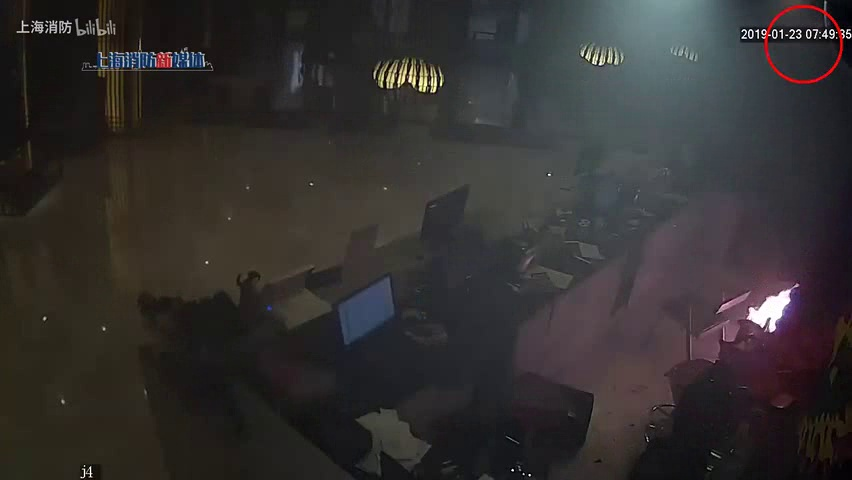fire: (744, 284, 803, 334)
